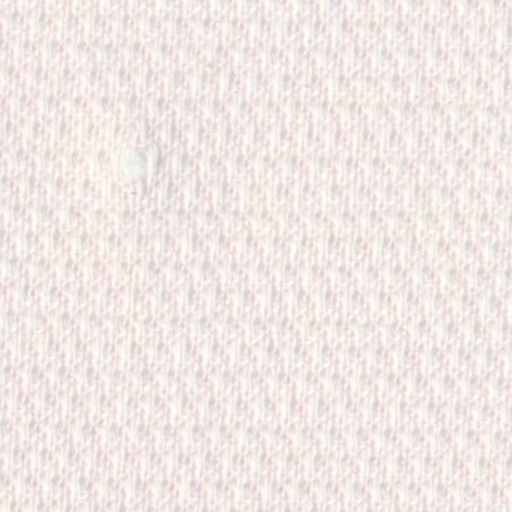MianQiu: (97, 106, 197, 211)
